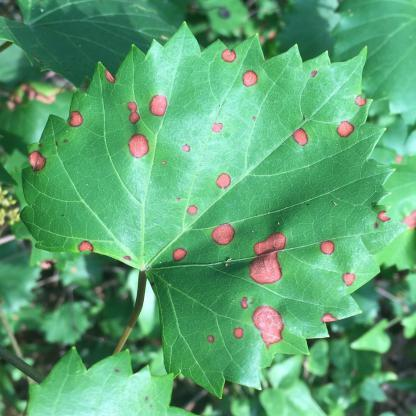grape leaf: (12, 24, 404, 394)
